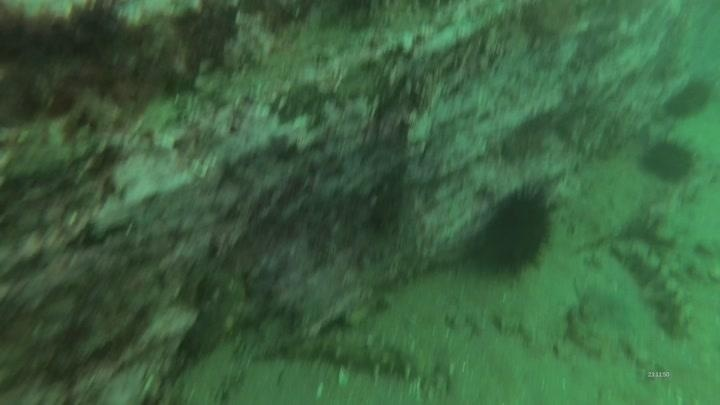echinus: (472, 181, 559, 279), (636, 133, 700, 186), (661, 74, 715, 122)
holothurian: (301, 322, 445, 387), (609, 237, 696, 340)
